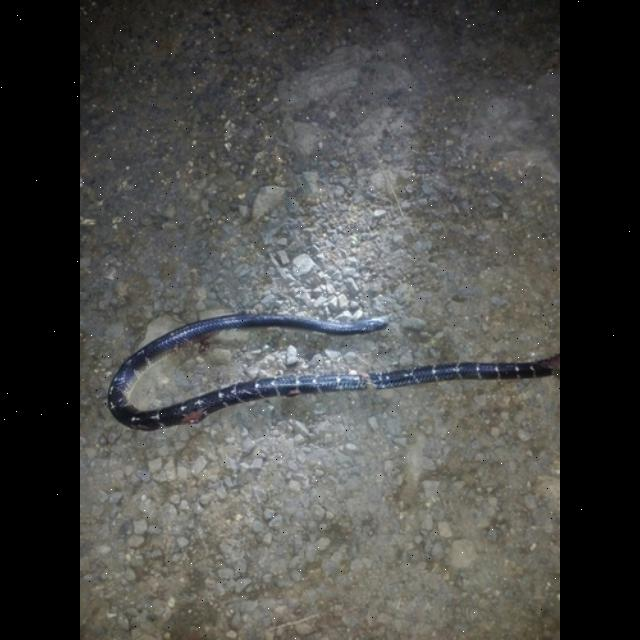snake: (100, 314, 560, 431)
